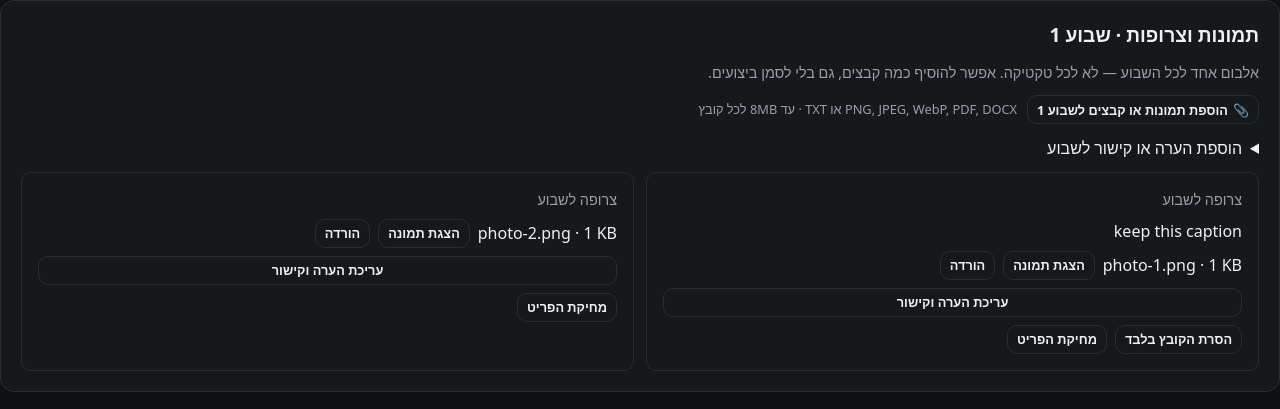
Test: WeekEvidenceAlbum › keeps captions when removing only a file and removes only the selected item
The image size is (1280, 409).
Expected: the text "keep this caption" is shown, top-left (1114, 220), bottom-right (1242, 242)
Click the button "הסרת הקובץ בלבד" at point(1178, 339), box top-left (1115, 325), bottom-right (1242, 354)
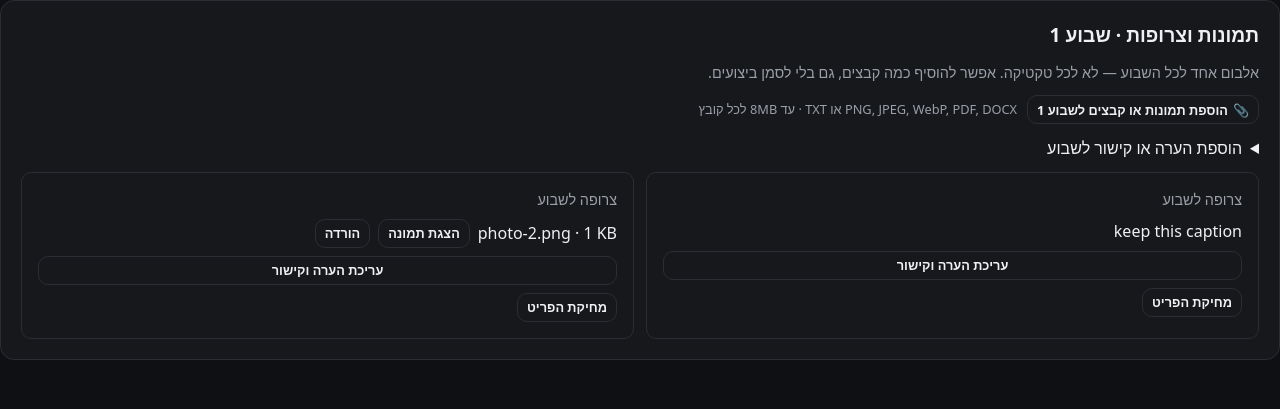
Expected: the text "keep this caption" is shown, top-left (1114, 220), bottom-right (1242, 242)
Expected: the text "photo-1.png" is gone
Click the button "מחיקת הפריט" below "photo-2.png" at point(567, 307), box top-left (517, 293), bottom-right (617, 322)
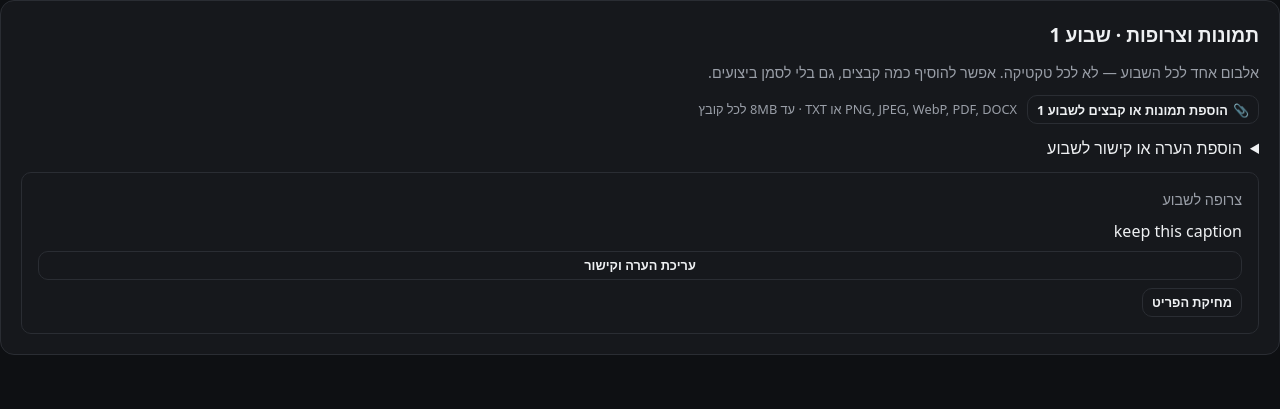
Expected: the text "keep this caption" is shown, top-left (1114, 220), bottom-right (1242, 242)
Expected: the text "photo-2.png" is gone
